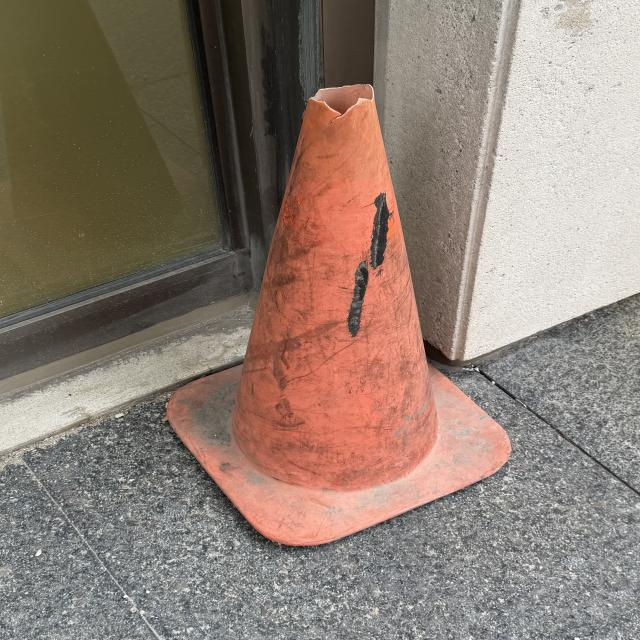Traffic Cone: (163, 83, 516, 550)
